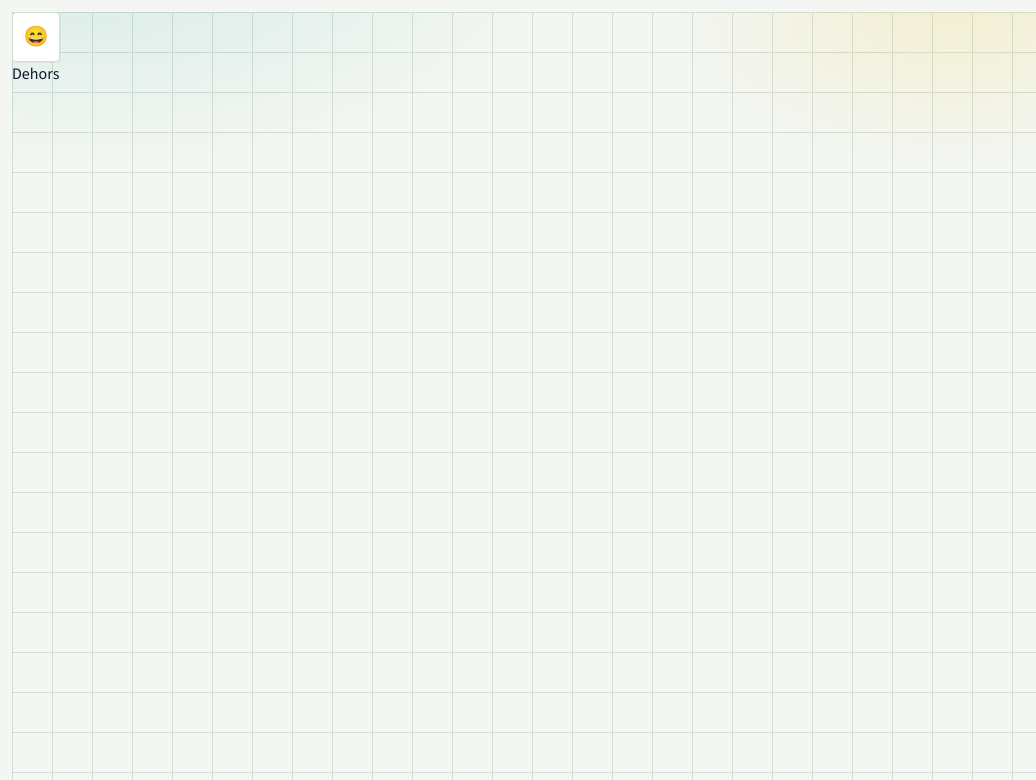
Scenario: EmojiPicker › change de catégorie
Click the button named "Choisir un emoji": (36, 37) [12, 12, 60, 62]
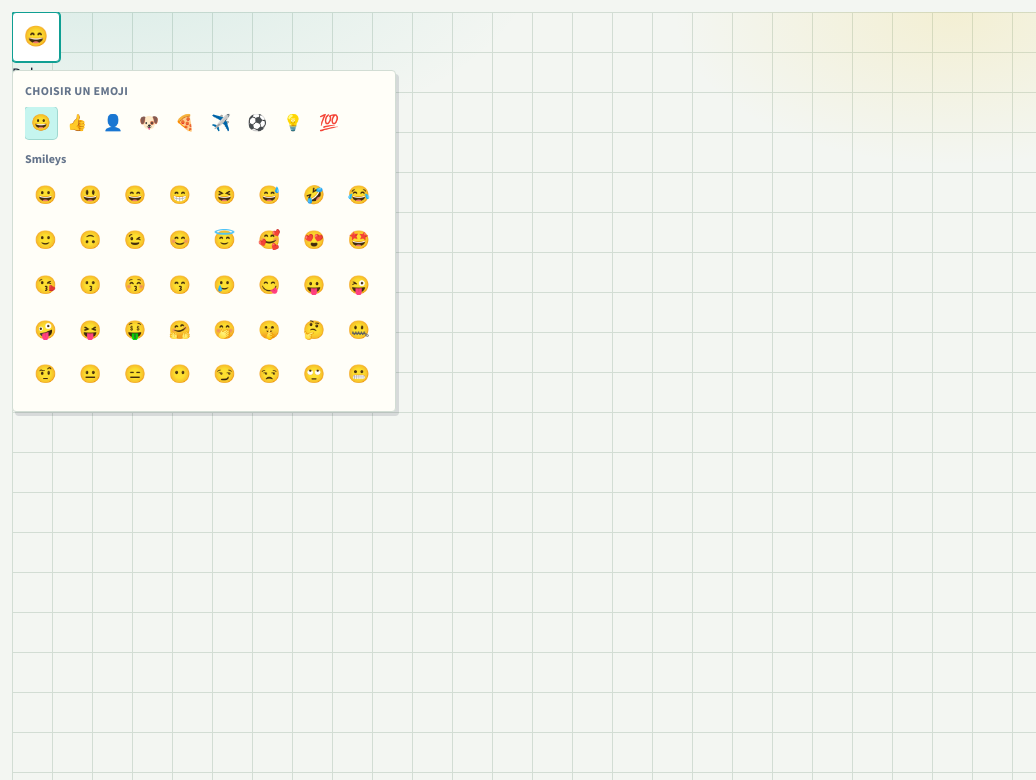
Click the button named "Gestes": (77, 123) [61, 107, 93, 139]
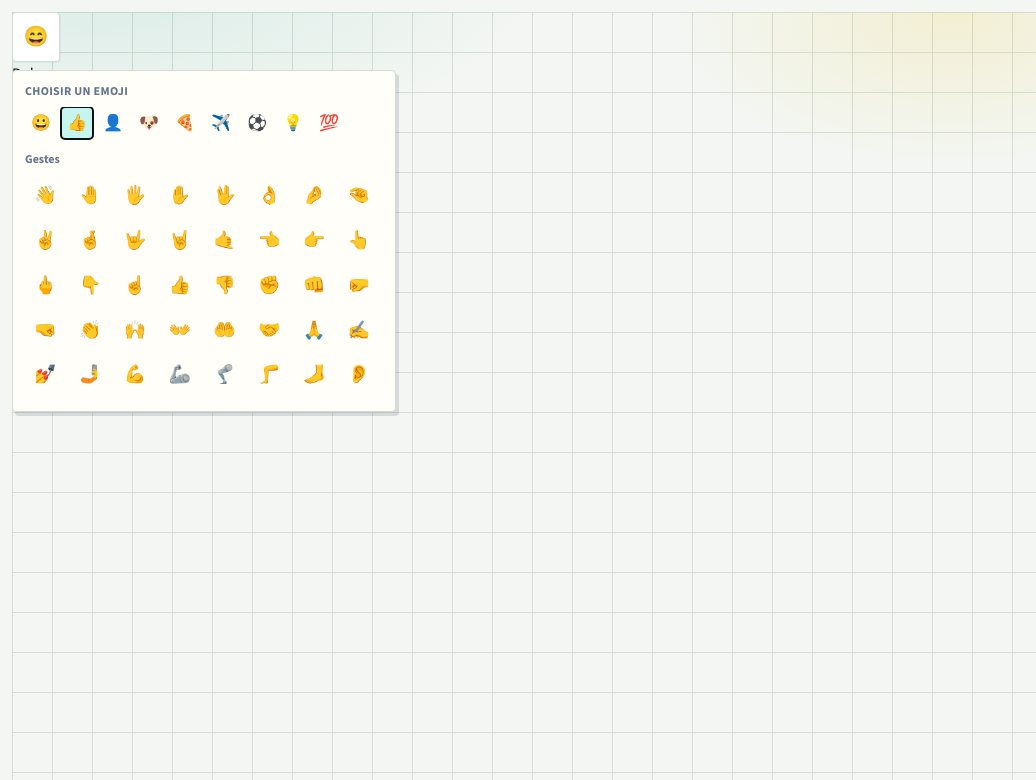
Expected: the button named "Gestes" is pressed, [61, 107, 93, 139]
